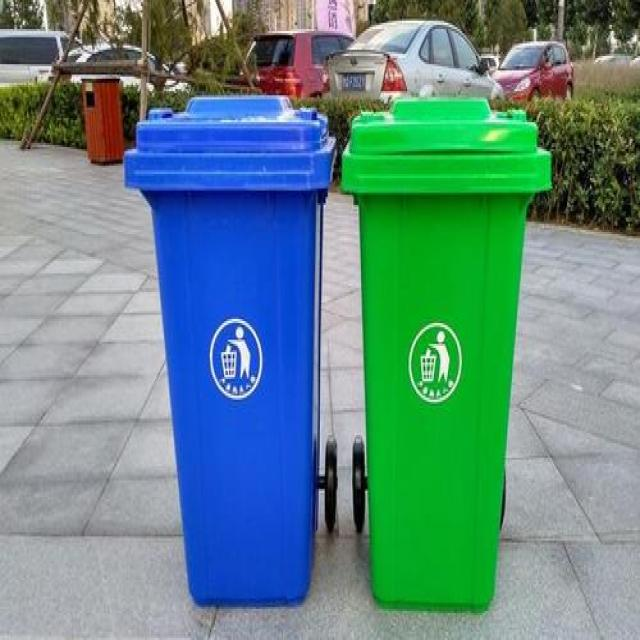garbage_bin: (339, 93, 549, 609), (123, 93, 334, 603), (80, 74, 122, 164)
